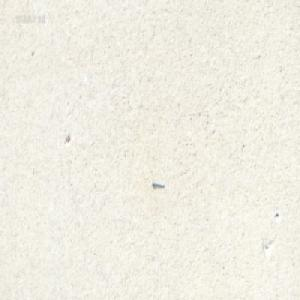Nail: (151, 178, 164, 187)
